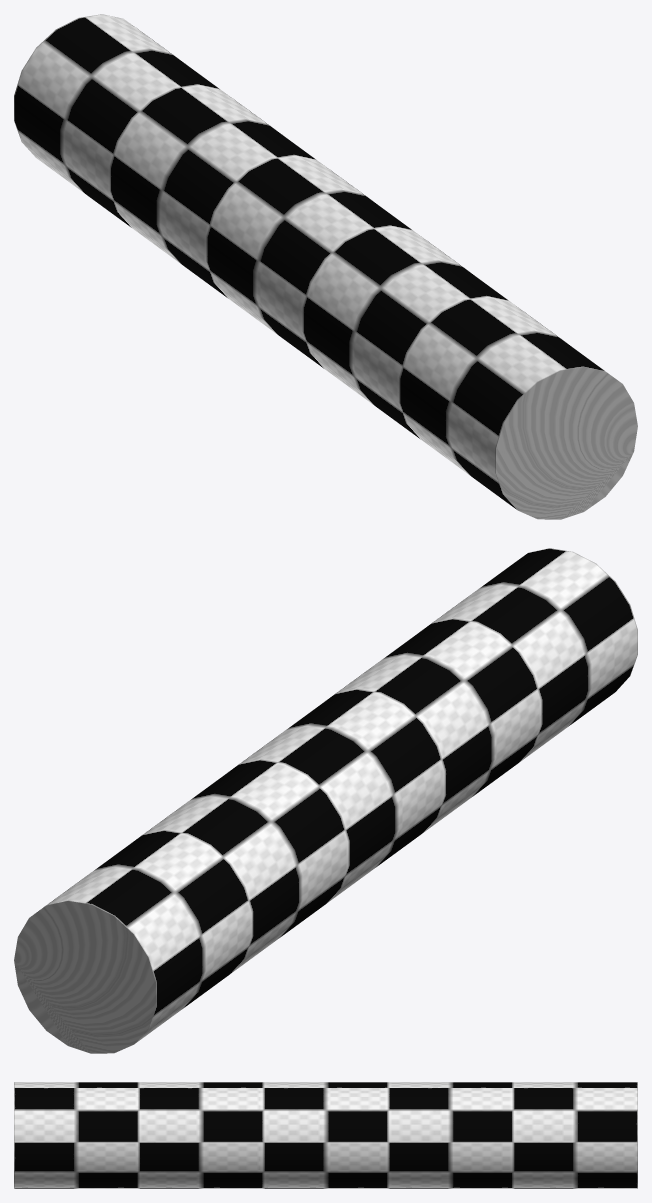
File: roller.obj
3 renders of one model, top to bottom at view 1: azimuth 30°, elevation 25°; view 2: azimuth 150°, elevation 25°; view 3: azimuth 270°, elevation 25°, orthographic. The views are drawn at different scales.
Size of the model in its own units: 0.0596 by 0.0598 by 0.35.
Materials: 1 (1 with a texture image).
